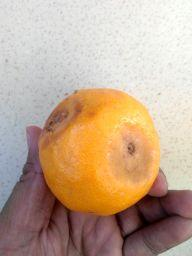Unripe: (41, 89, 160, 215)
